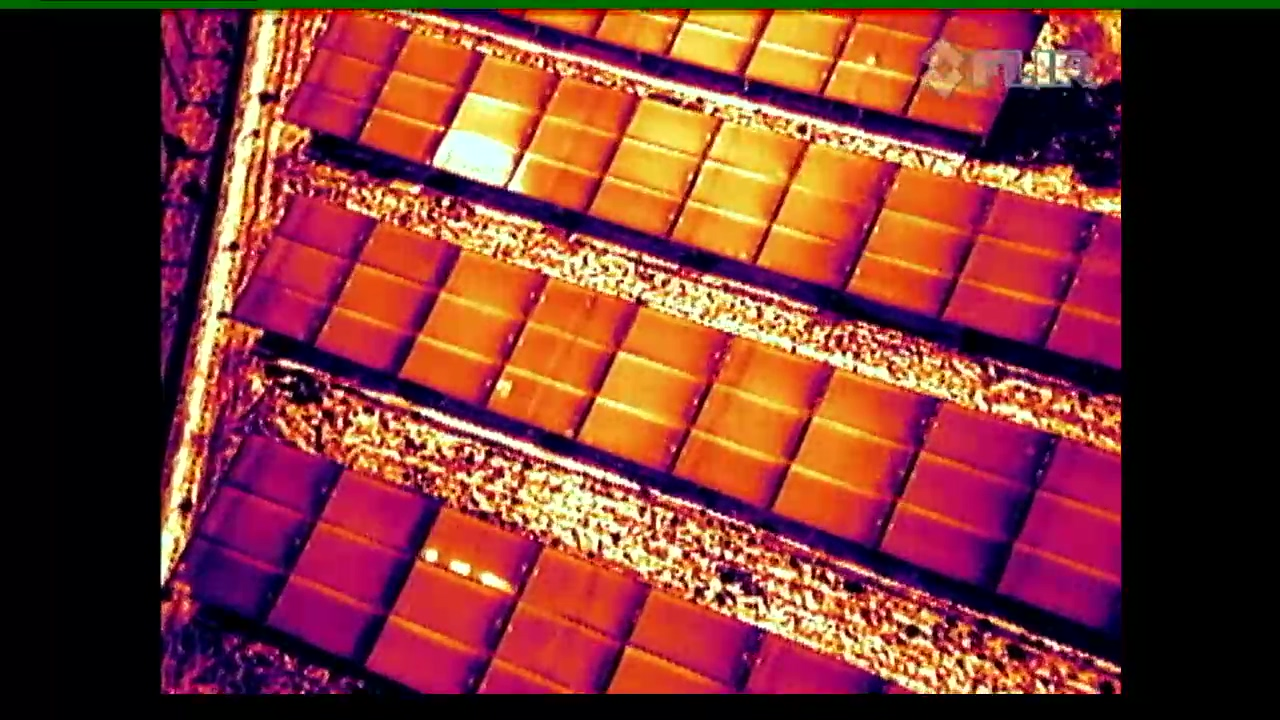hotspot: (342, 506, 545, 695), (470, 280, 639, 439)
